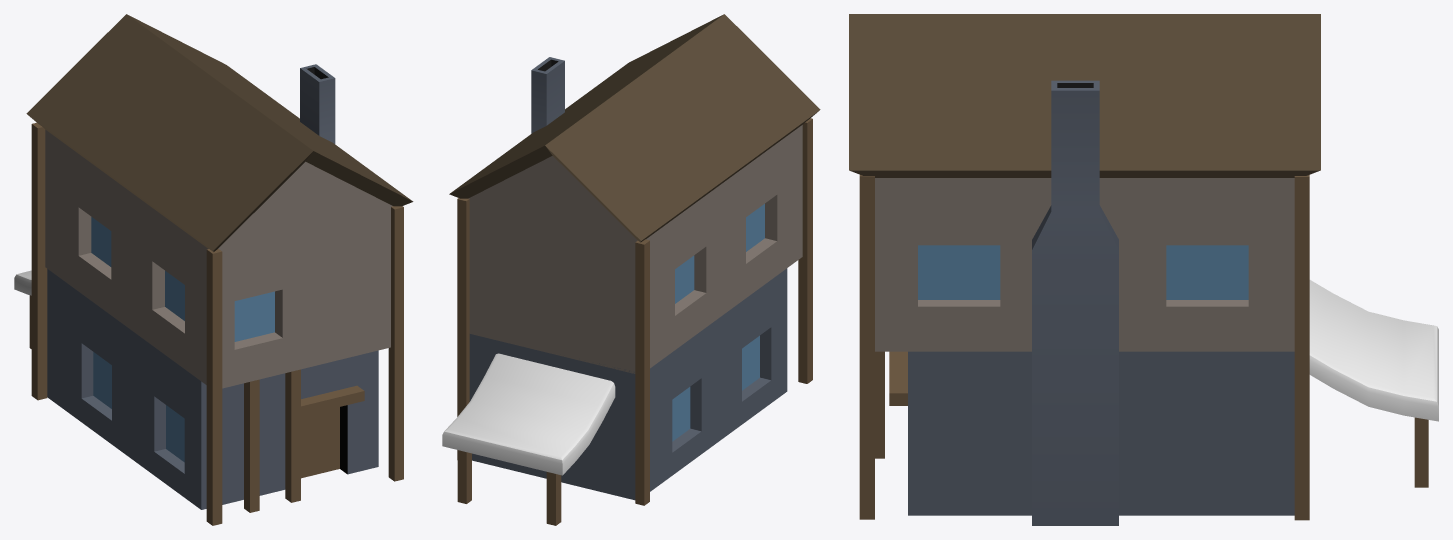
File: House_3.fbx
3 views of the same model, side by side, from view 1: azimuth 30°, elevation 25°; view 2: azimuth 150°, elevation 25°; view 3: azimuth 270°, elevation 25° (orthographic). The views are drawn at different scales.
Parts seen in each view (by area): view 1: House_3; view 2: House_3; view 3: House_3.
Boxes of the visible parts, x1=… form: House_3: x1=14, y1=14, x2=413, y2=525; House_3: x1=442, y1=14, x2=820, y2=525; House_3: x1=849, y1=14, x2=1438, y2=525.
Bounding box in the file's own units: 501 × 813 × 972.
